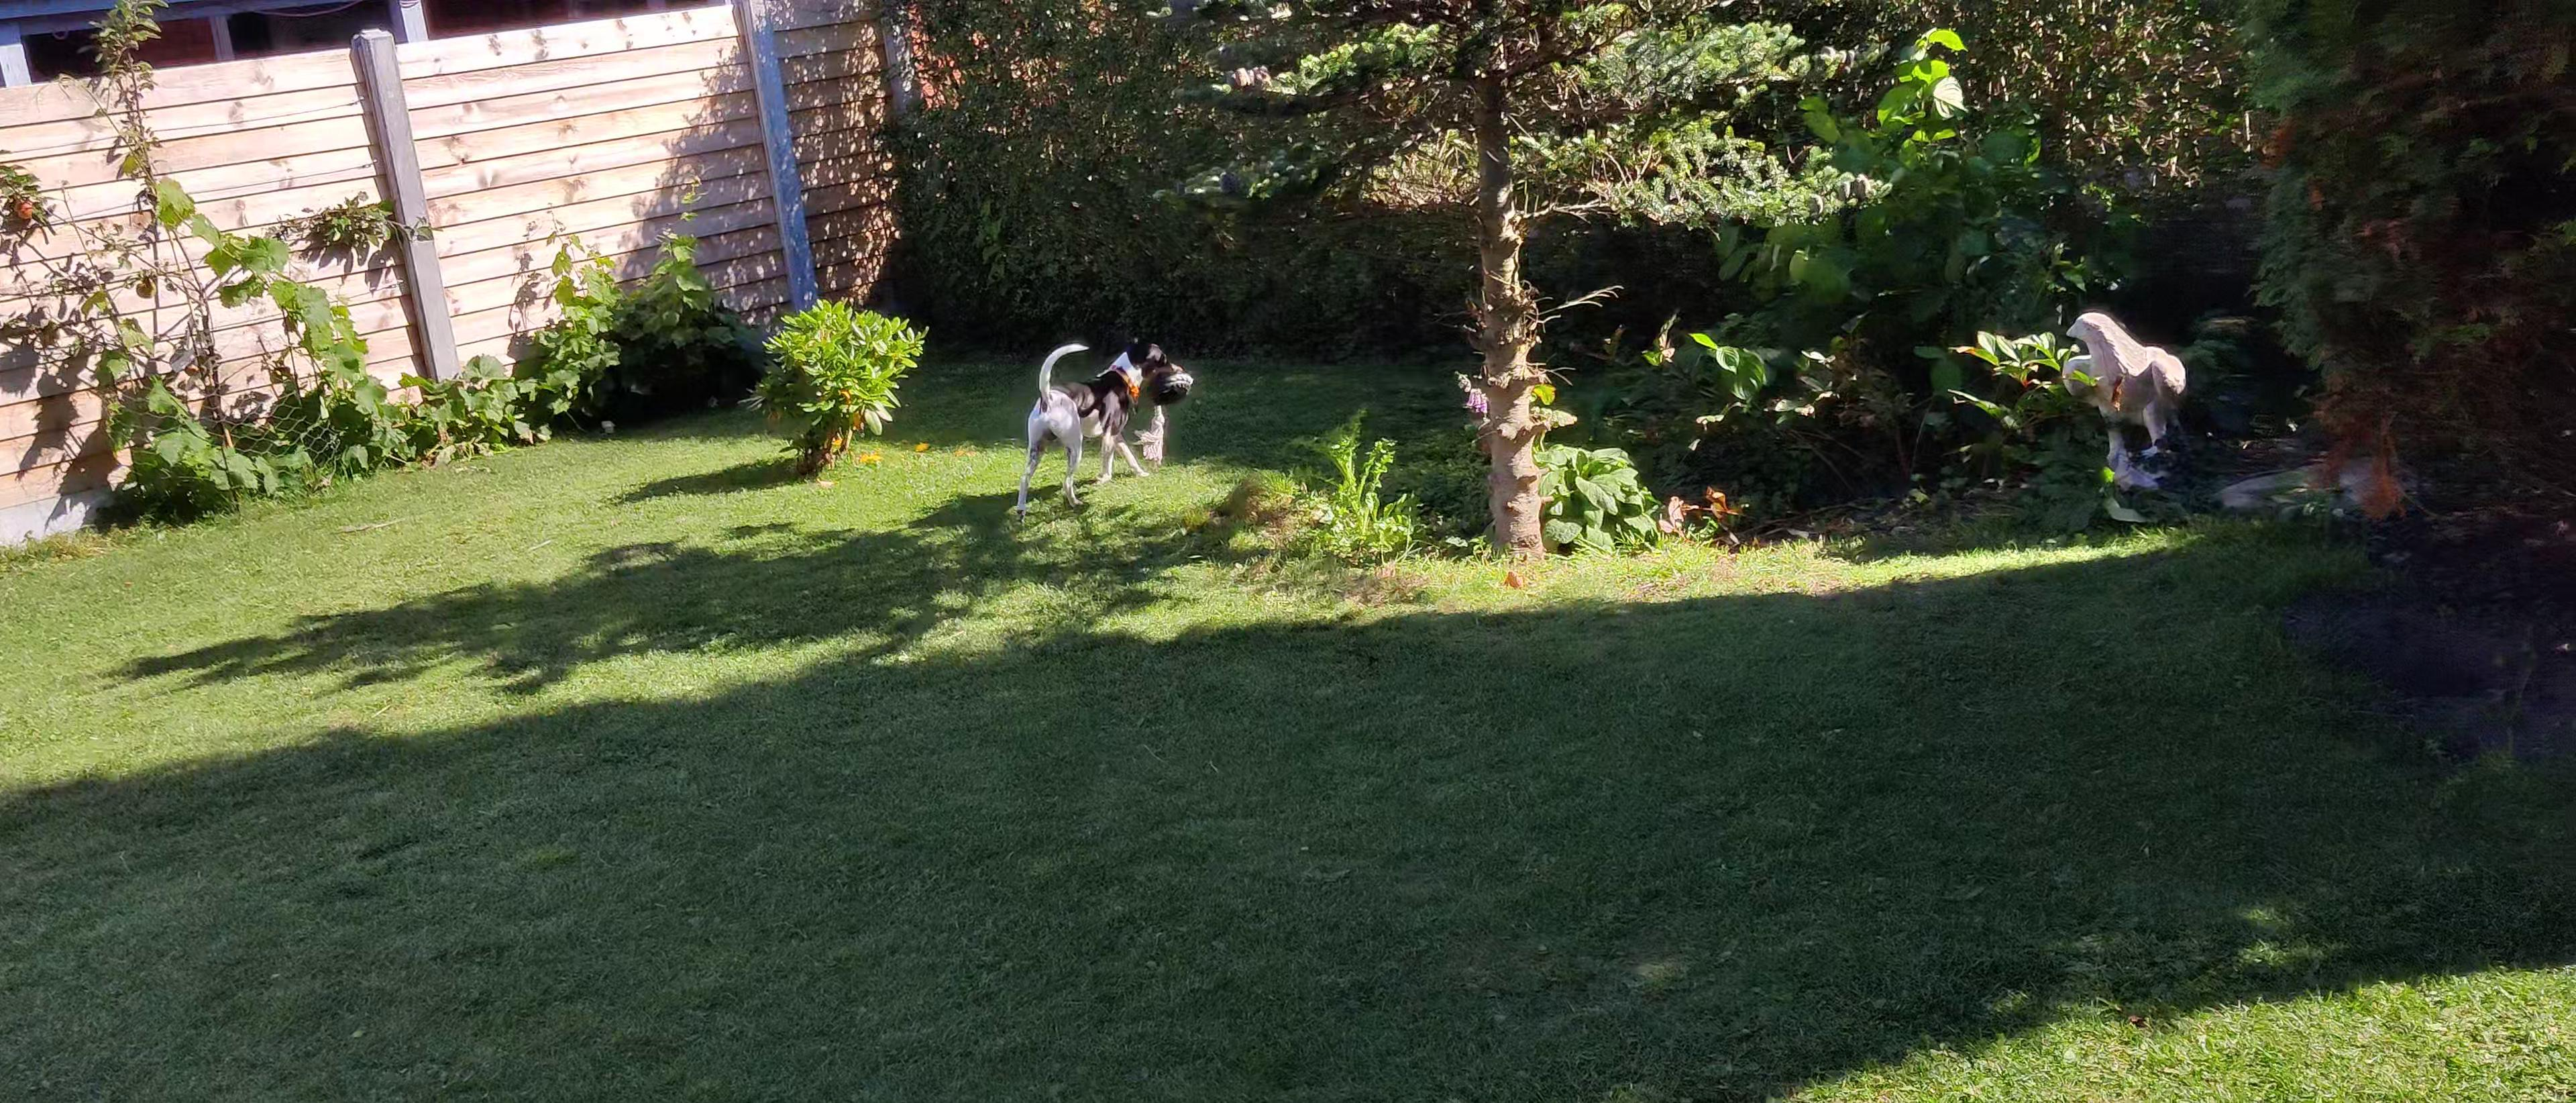Dog: (1014, 339, 1184, 519)
